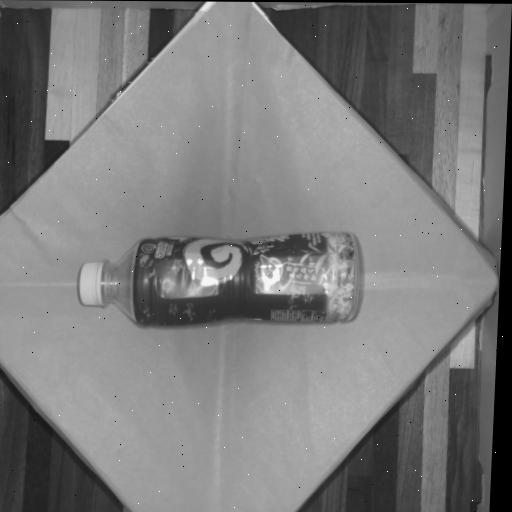bottle: (76, 238, 364, 328)
